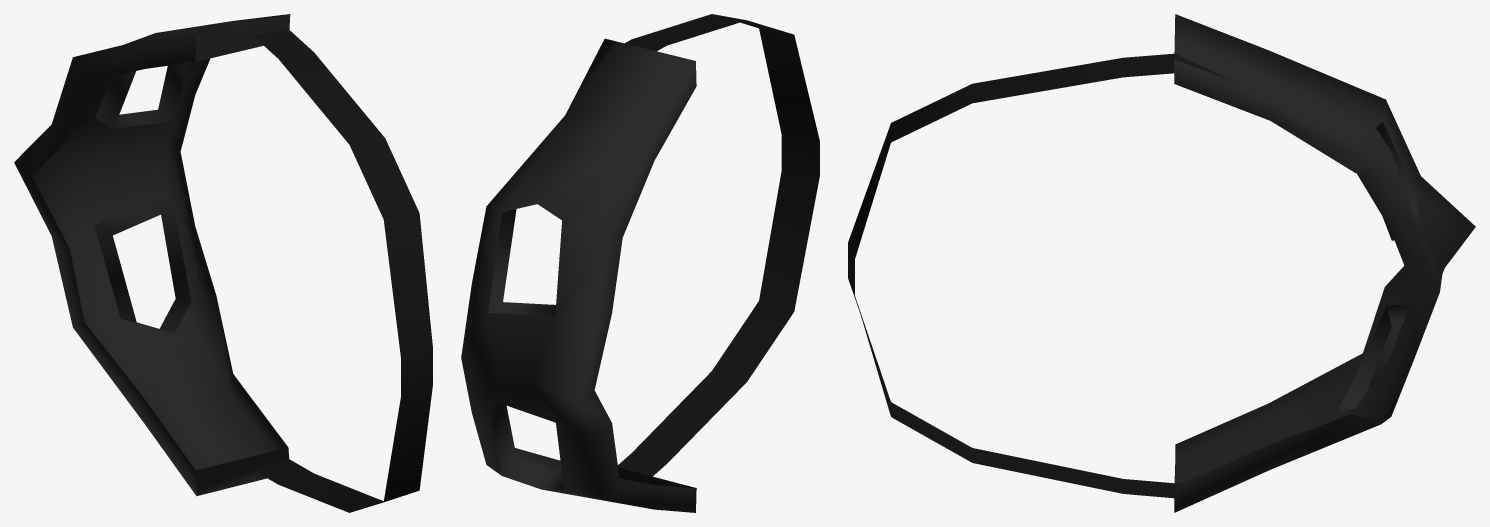
The model's file is M_Eyes Mask.fbx.
3 renders of one model, left to right at view 1: azimuth 30°, elevation 25°; view 2: azimuth 150°, elevation 25°; view 3: azimuth 270°, elevation 25°, orthographic.
Parts seen in each view (by area): view 1: M_HockeyMask; view 2: M_HockeyMask; view 3: M_HockeyMask.
Boxes of the visible parts, x1,y1,x2,y2 form: M_HockeyMask: (14,14,432,512); M_HockeyMask: (461,14,819,512); M_HockeyMask: (848,14,1475,512).
Bounding box in the file's own units: 0.0405 × 0.1276 × 0.1595.
